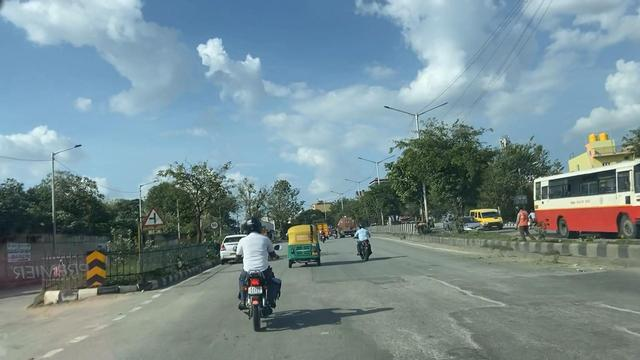HMV: (528, 153, 637, 240)
RoadDamages: (382, 263, 512, 339)
